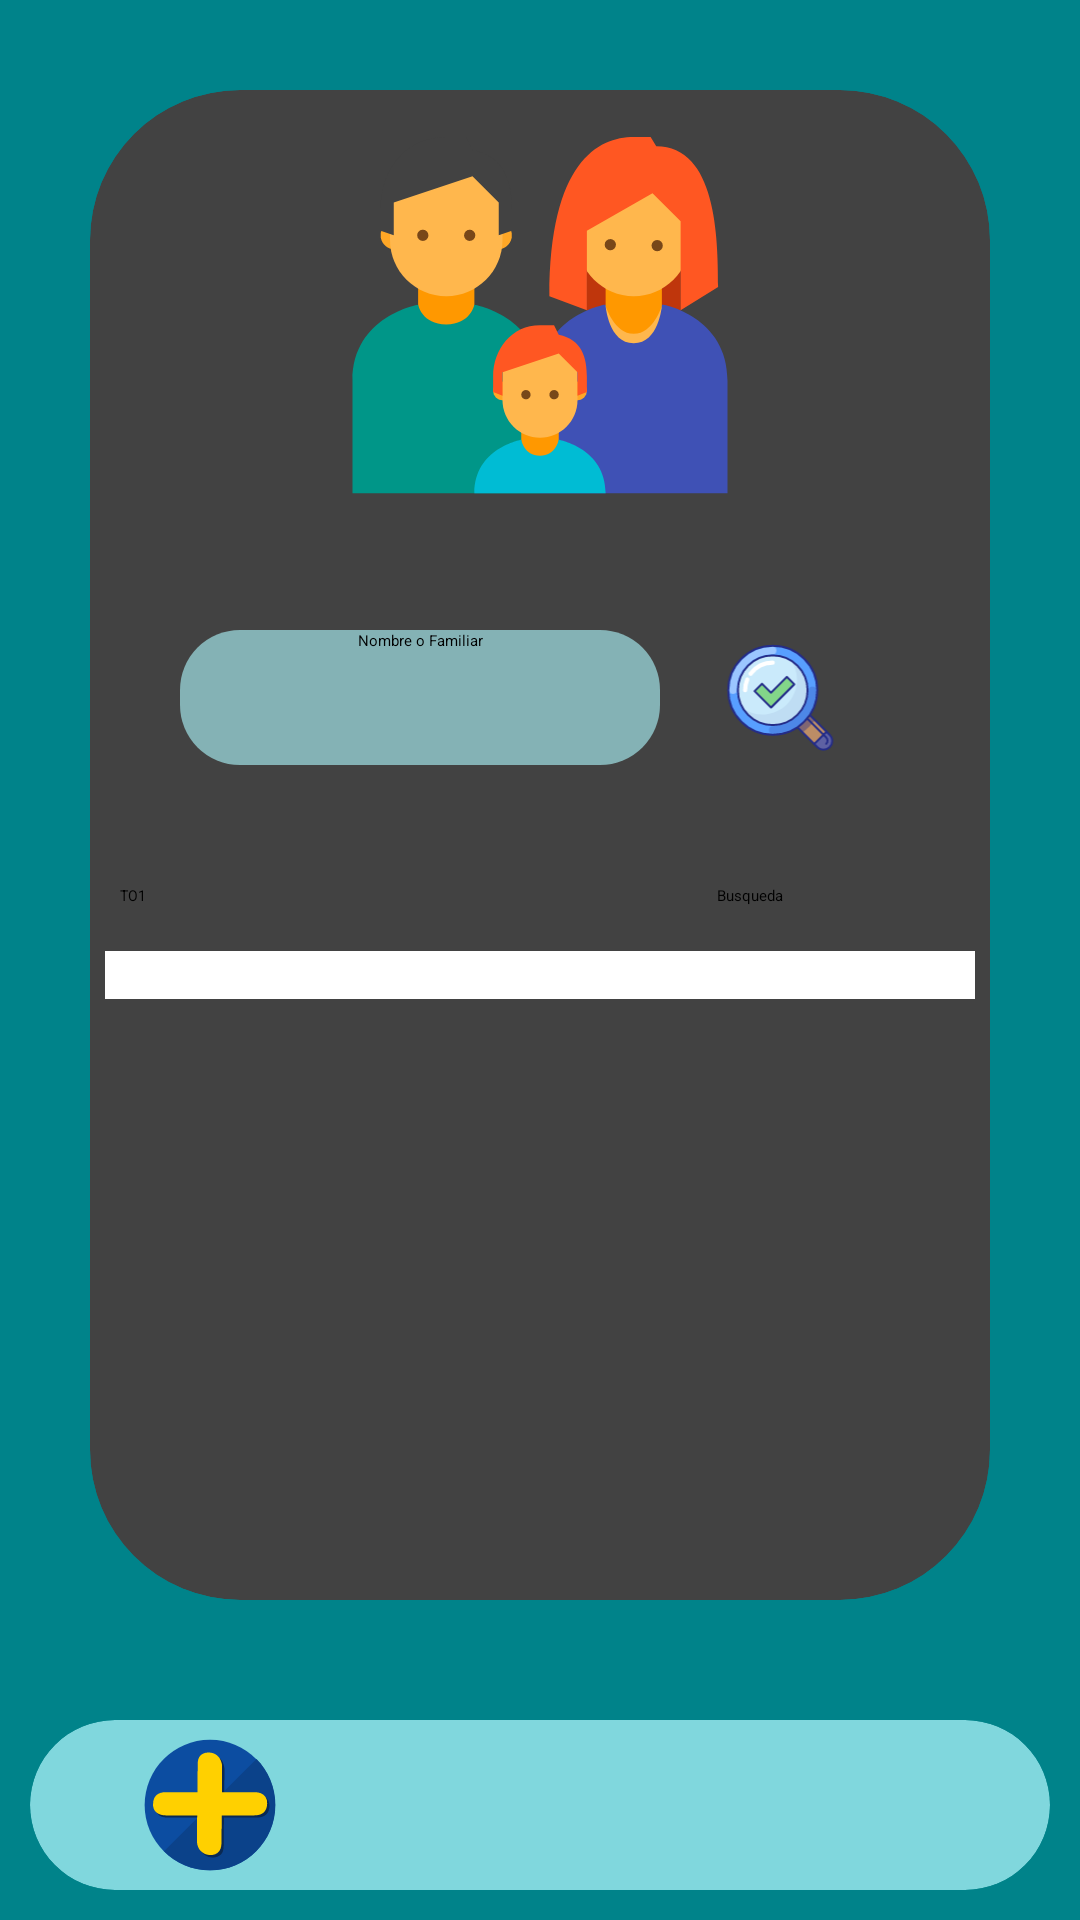

Icons on this 1080×1920 Android screen, each with its box as (x1, y1, x2, y2):
lupa: (727, 645, 833, 751)
mas: (144, 1739, 276, 1871)
